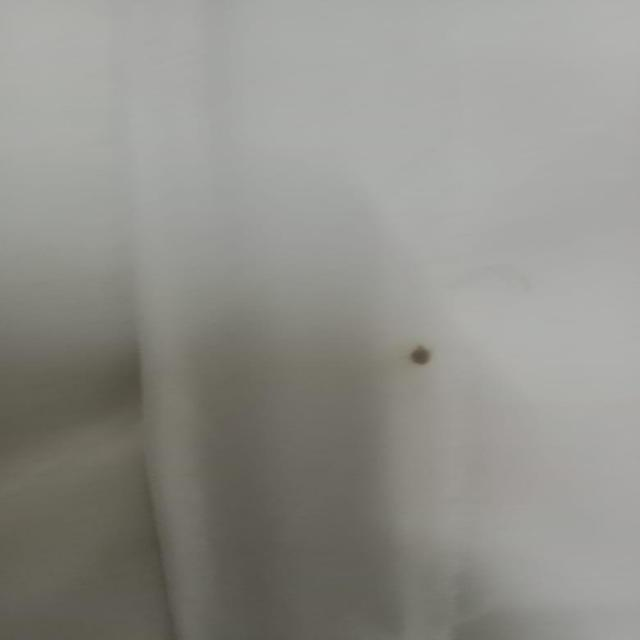stain: (393, 334, 452, 377)
